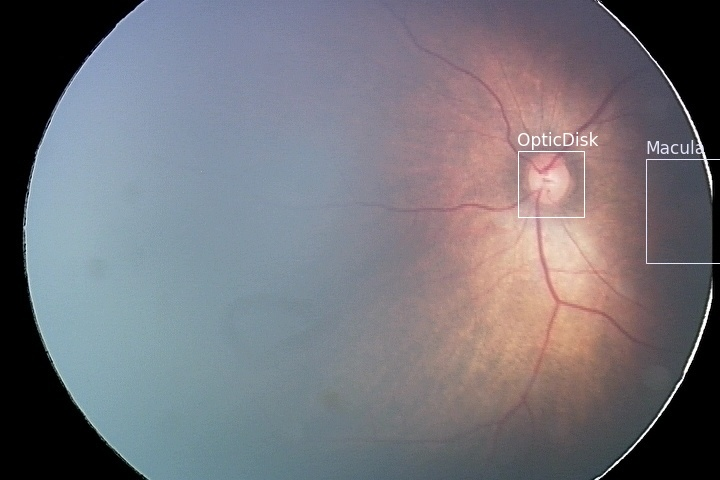Macula: (645, 158, 720, 262)
OpticDisk: (517, 150, 583, 216)
